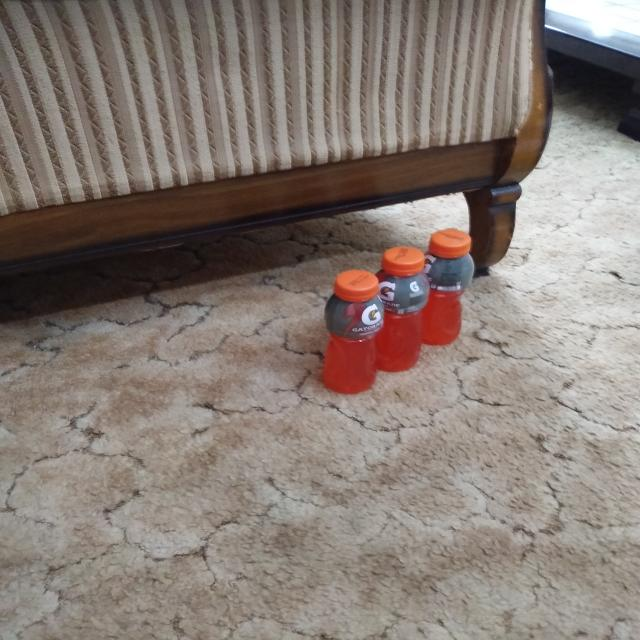Plastic: (318, 269, 384, 396), (384, 245, 428, 374), (427, 226, 473, 346)
